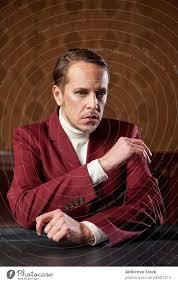Human_Male: (11, 53, 160, 242)
